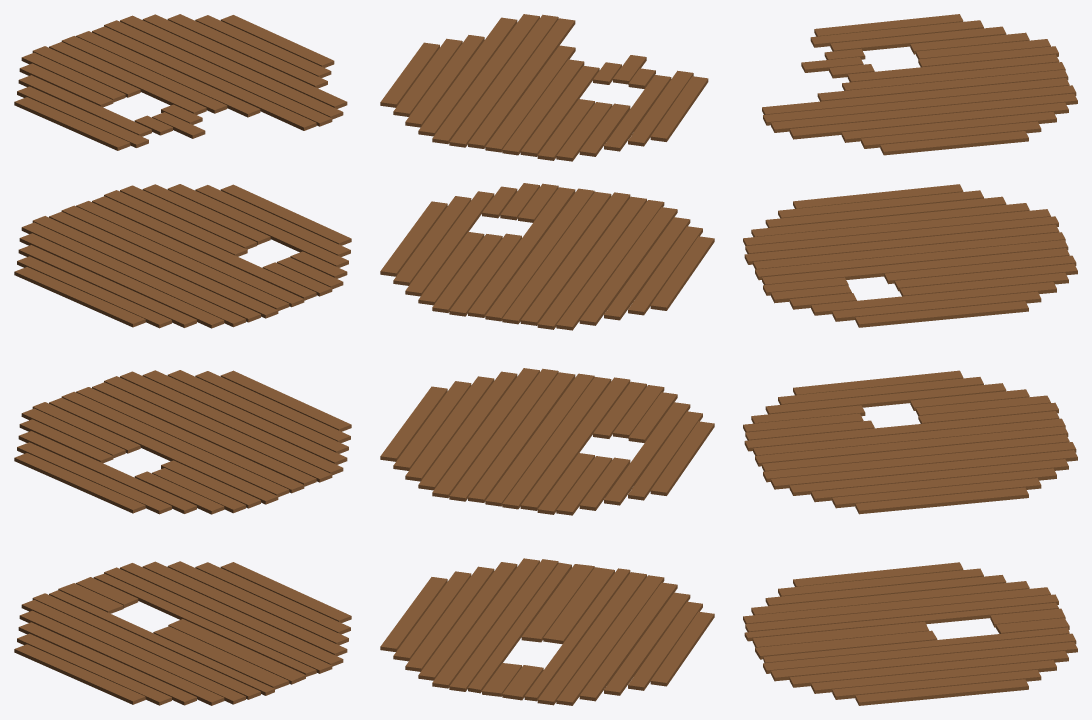
3 views of the same model, side by side, from view 1: azimuth 30°, elevation 25°; view 2: azimuth 150°, elevation 25°; view 3: azimuth 270°, elevation 25° (orthographic).
Parts seen in each view (by area): view 1: Plane236_brown_0, Plane250_brown_0, Plane238_brown_0, Plane237_brown_0; view 2: Plane236_brown_0, Plane250_brown_0, Plane238_brown_0, Plane237_brown_0; view 3: Plane236_brown_0, Plane238_brown_0, Plane250_brown_0, Plane237_brown_0.
Part boxes in pixels (x1=…): Plane236_brown_0: x1=14, y1=184, x2=351, y2=328; Plane250_brown_0: x1=14, y1=370, x2=351, y2=514; Plane238_brown_0: x1=14, y1=561, x2=351, y2=705; Plane237_brown_0: x1=14, y1=14, x2=347, y2=150; Plane236_brown_0: x1=380, y1=183, x2=714, y2=330; Plane250_brown_0: x1=380, y1=368, x2=714, y2=515; Plane238_brown_0: x1=380, y1=558, x2=714, y2=705; Plane237_brown_0: x1=380, y1=14, x2=708, y2=161; Plane236_brown_0: x1=743, y1=184, x2=1077, y2=327; Plane238_brown_0: x1=743, y1=562, x2=1077, y2=705; Plane250_brown_0: x1=743, y1=370, x2=1077, y2=514; Plane237_brown_0: x1=762, y1=14, x2=1077, y2=155.
Size of the model in its own units: 680 by 1248 by 686.
